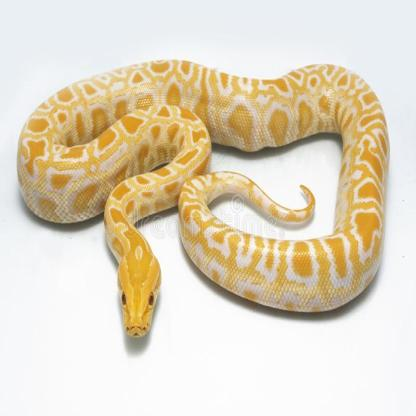Snake: (5, 53, 394, 342)
